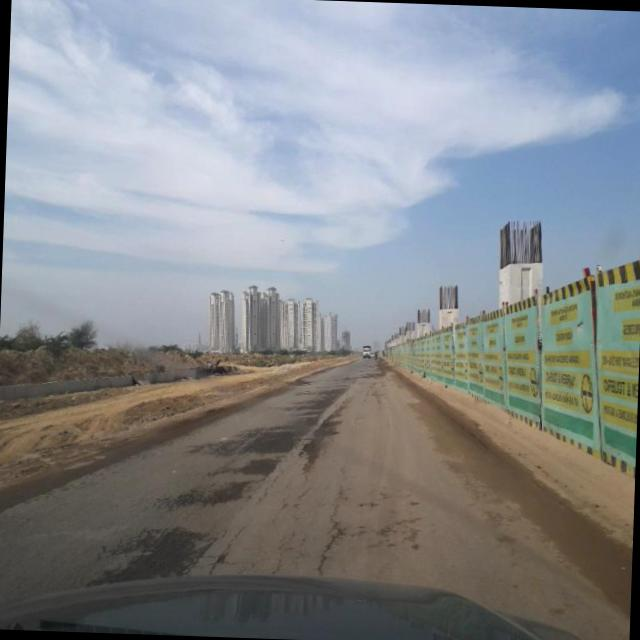crack: (86, 404, 269, 586)
pothole: (214, 442, 310, 578), (310, 471, 360, 574)
